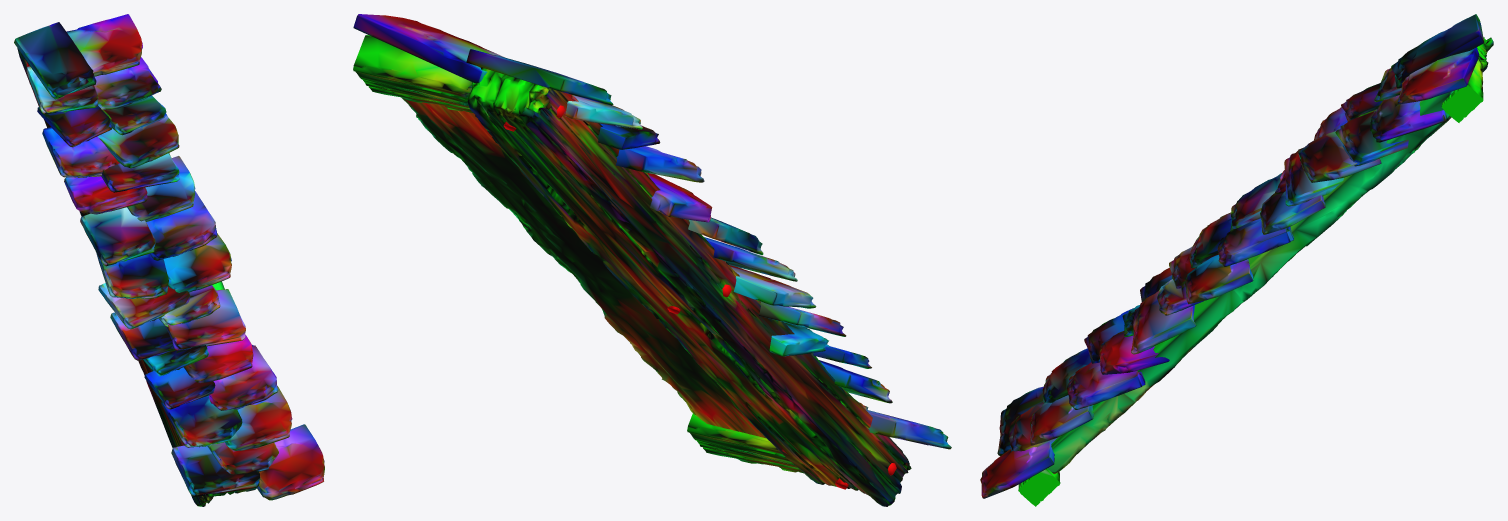
The model's file is SM_Stone_Roof_End_L_V2.fbx.
The picture shows the model from 3 angles, left to right: view 1: azimuth 30°, elevation 25°; view 2: azimuth 150°, elevation 25°; view 3: azimuth 270°, elevation 25°; orthographic projection. The views are drawn at different scales.
Parts seen in each view (by area): view 1: SM_Stone_Roof_End_L_V2_LOD0; view 2: SM_Stone_Roof_End_L_V2_LOD0; view 3: SM_Stone_Roof_End_L_V2_LOD0.
Boxes of the visible parts, left/top/right/bottom form: SM_Stone_Roof_End_L_V2_LOD0: left=14, top=14, right=324, bottom=506; SM_Stone_Roof_End_L_V2_LOD0: left=353, top=14, right=951, bottom=506; SM_Stone_Roof_End_L_V2_LOD0: left=980, top=14, right=1493, bottom=506.
Size of the model in its own units: 134 by 346 by 327.
